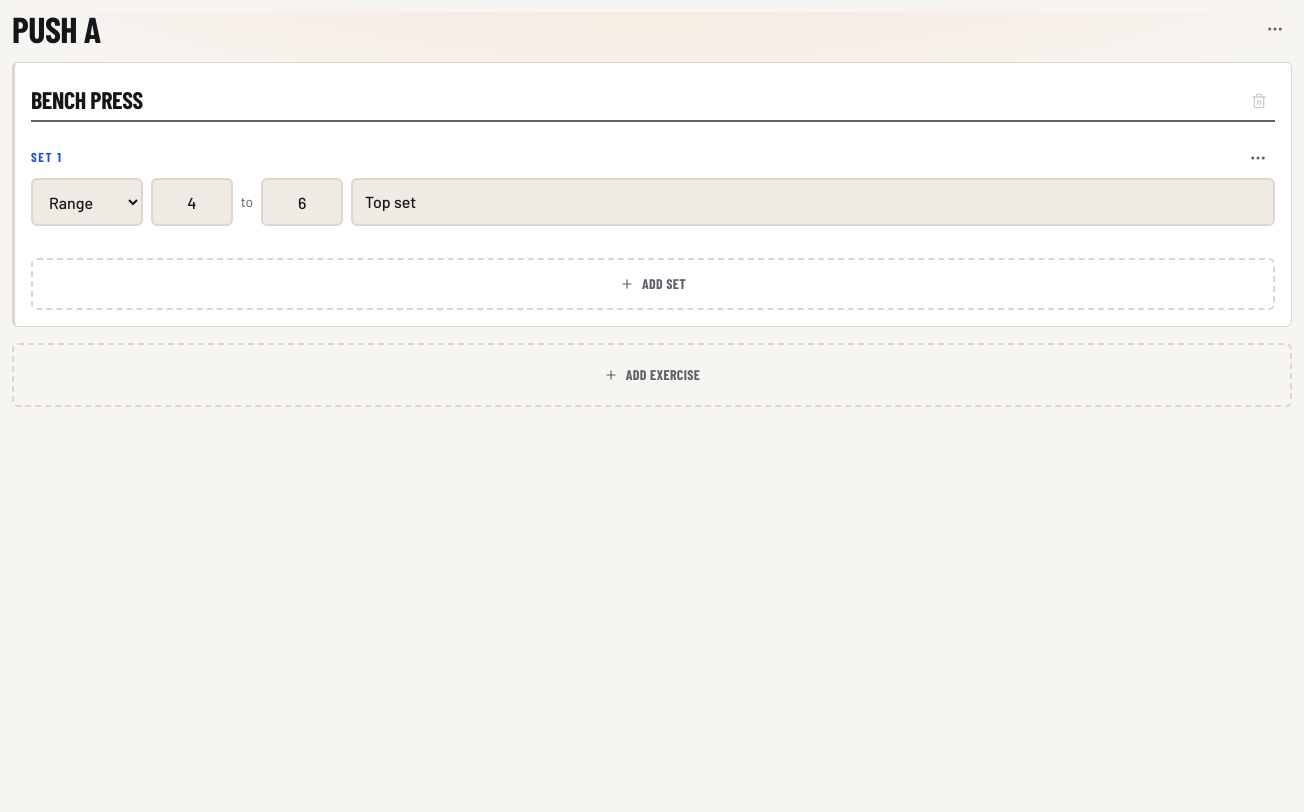
Test: WorkoutEditor › offers back the archived exercises not already on a card
Click the button "Add exercise".
click(652, 375)  # box [12, 343, 1292, 407]
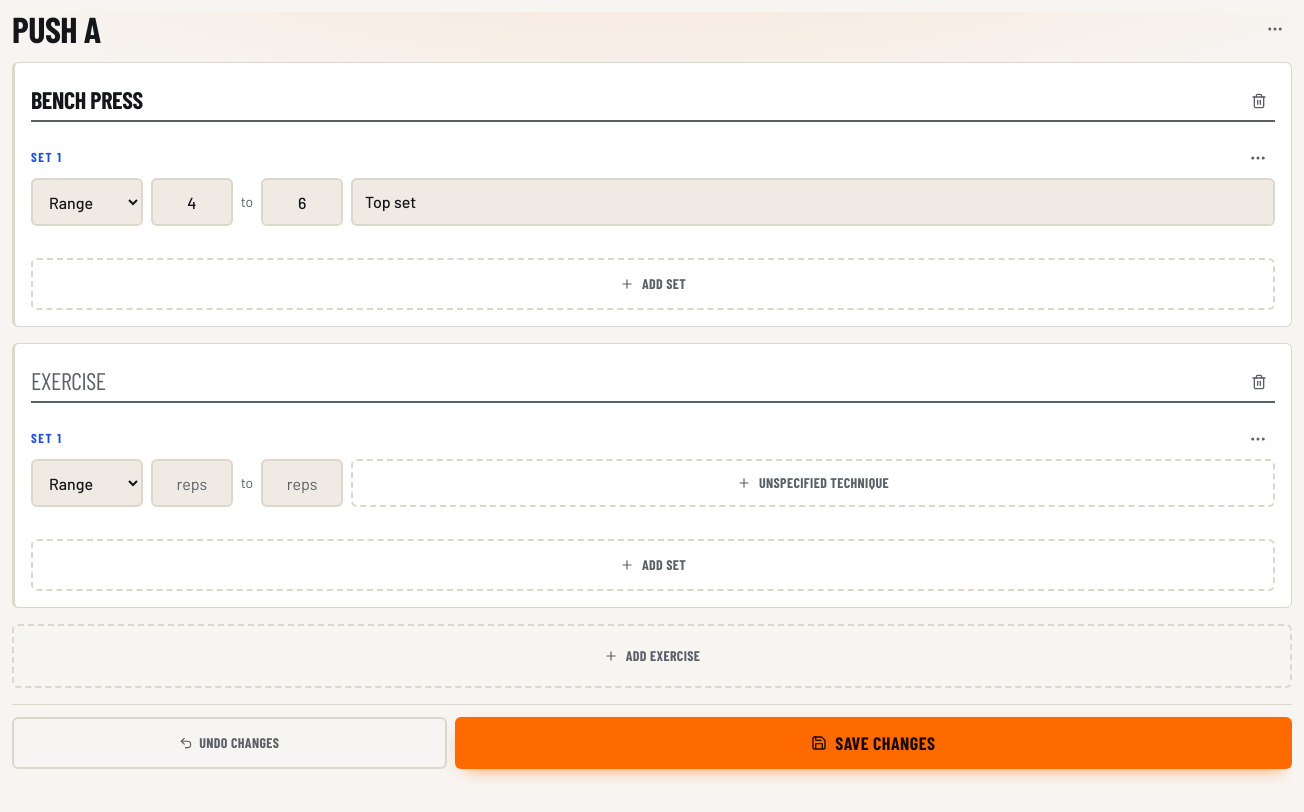
Focus the dropdown named "Exercise 2 name" at (653, 382), box [31, 360, 1275, 403]
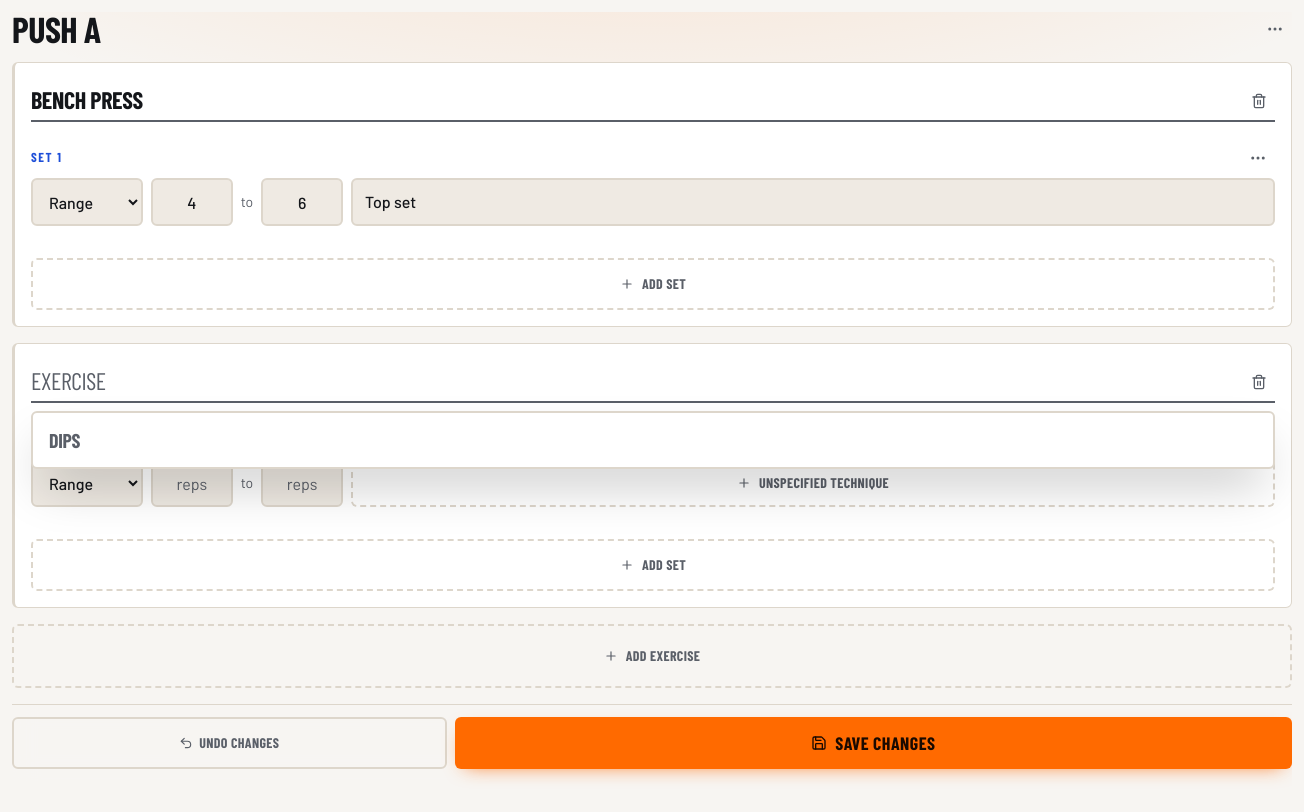
Expected: the options read "Dips", in this order, [49, 428, 80, 452]
